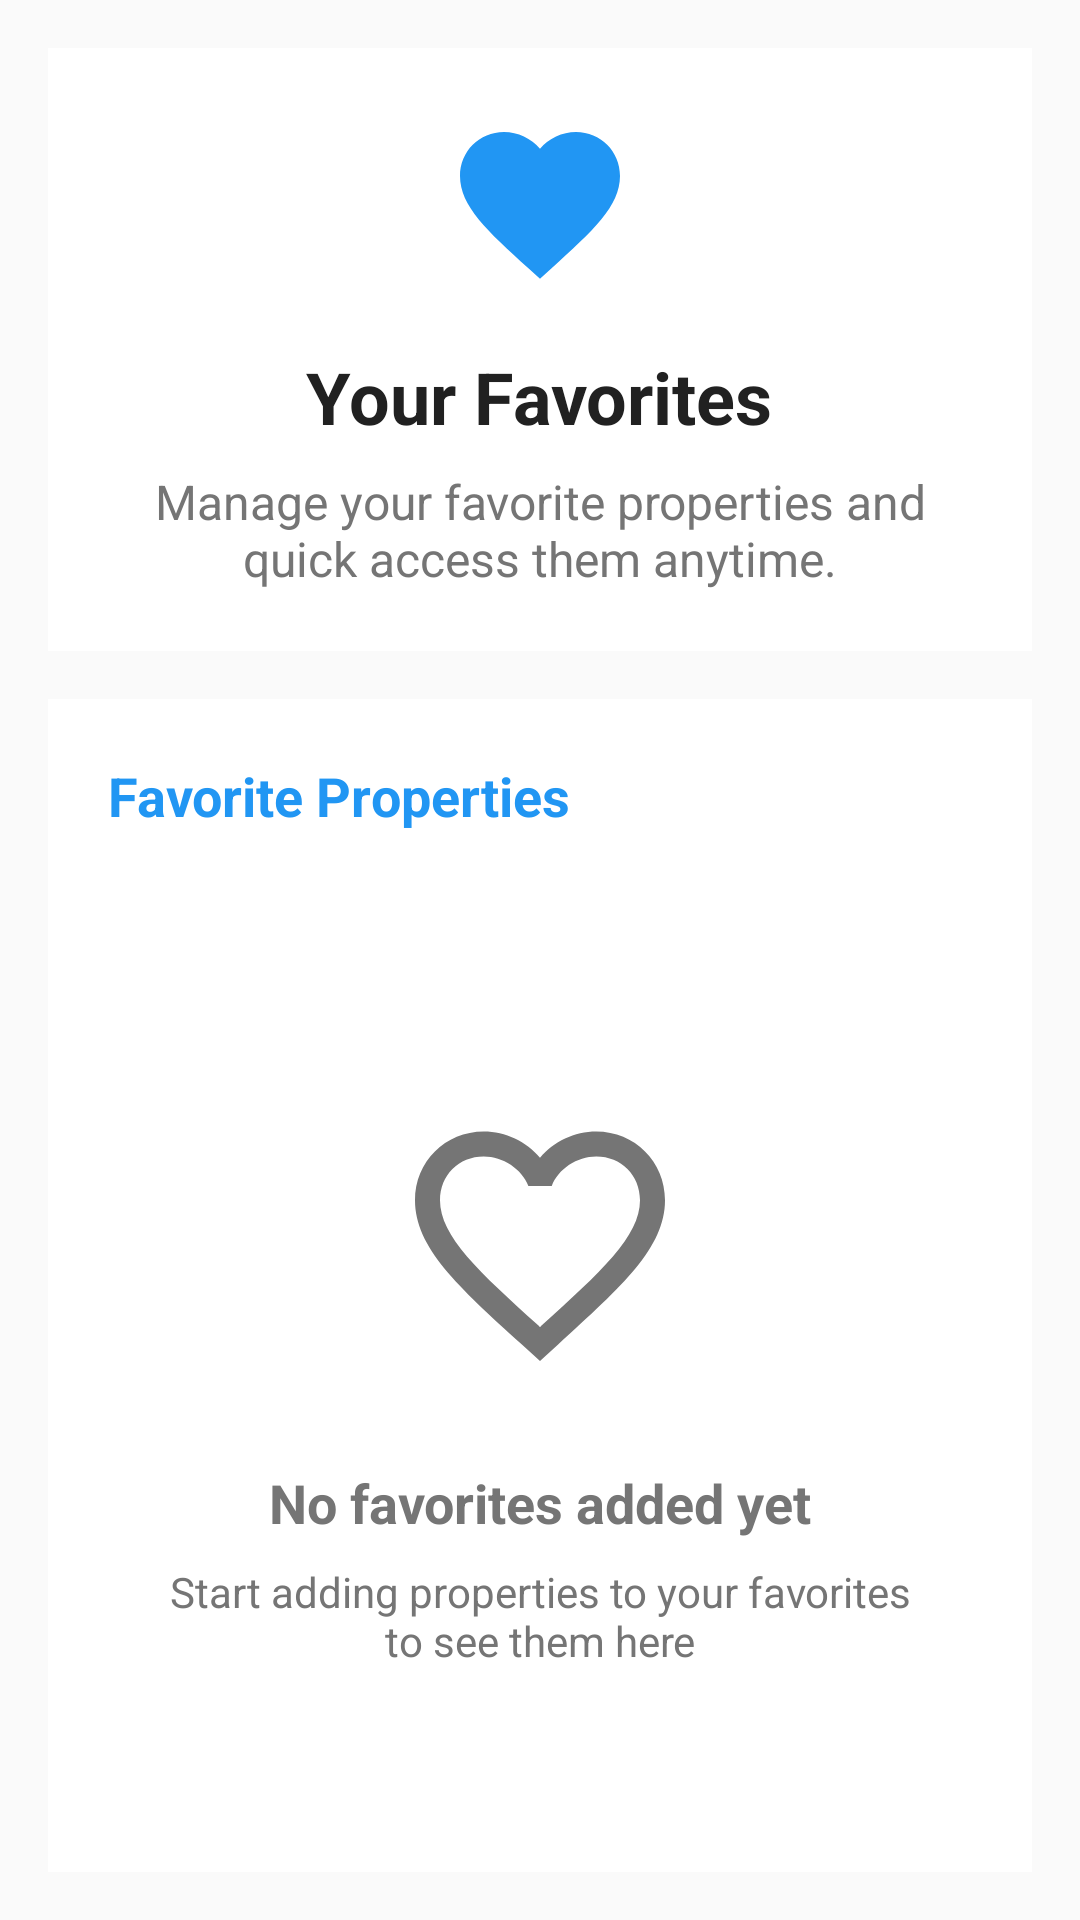

Icon bounding boxes for this 1080w x 1920h phone screenshot, format Rect(x1, y1, x2, y2):
heart: Rect(415, 1131, 665, 1361)
